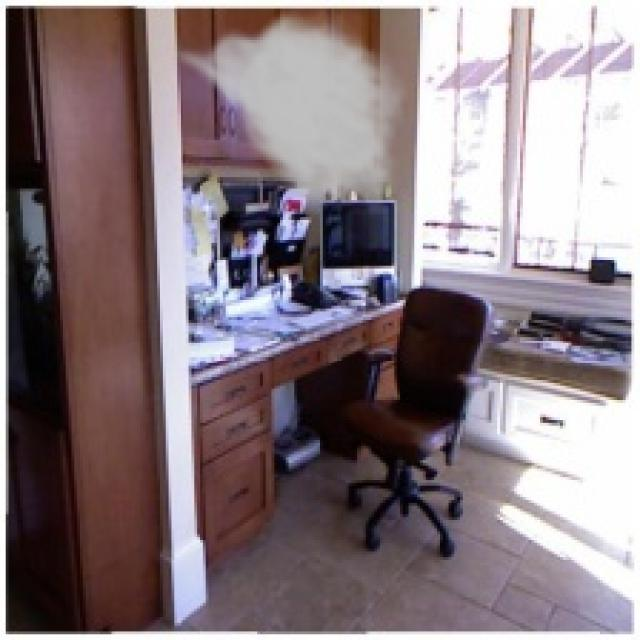smoke: (163, 6, 408, 217)
